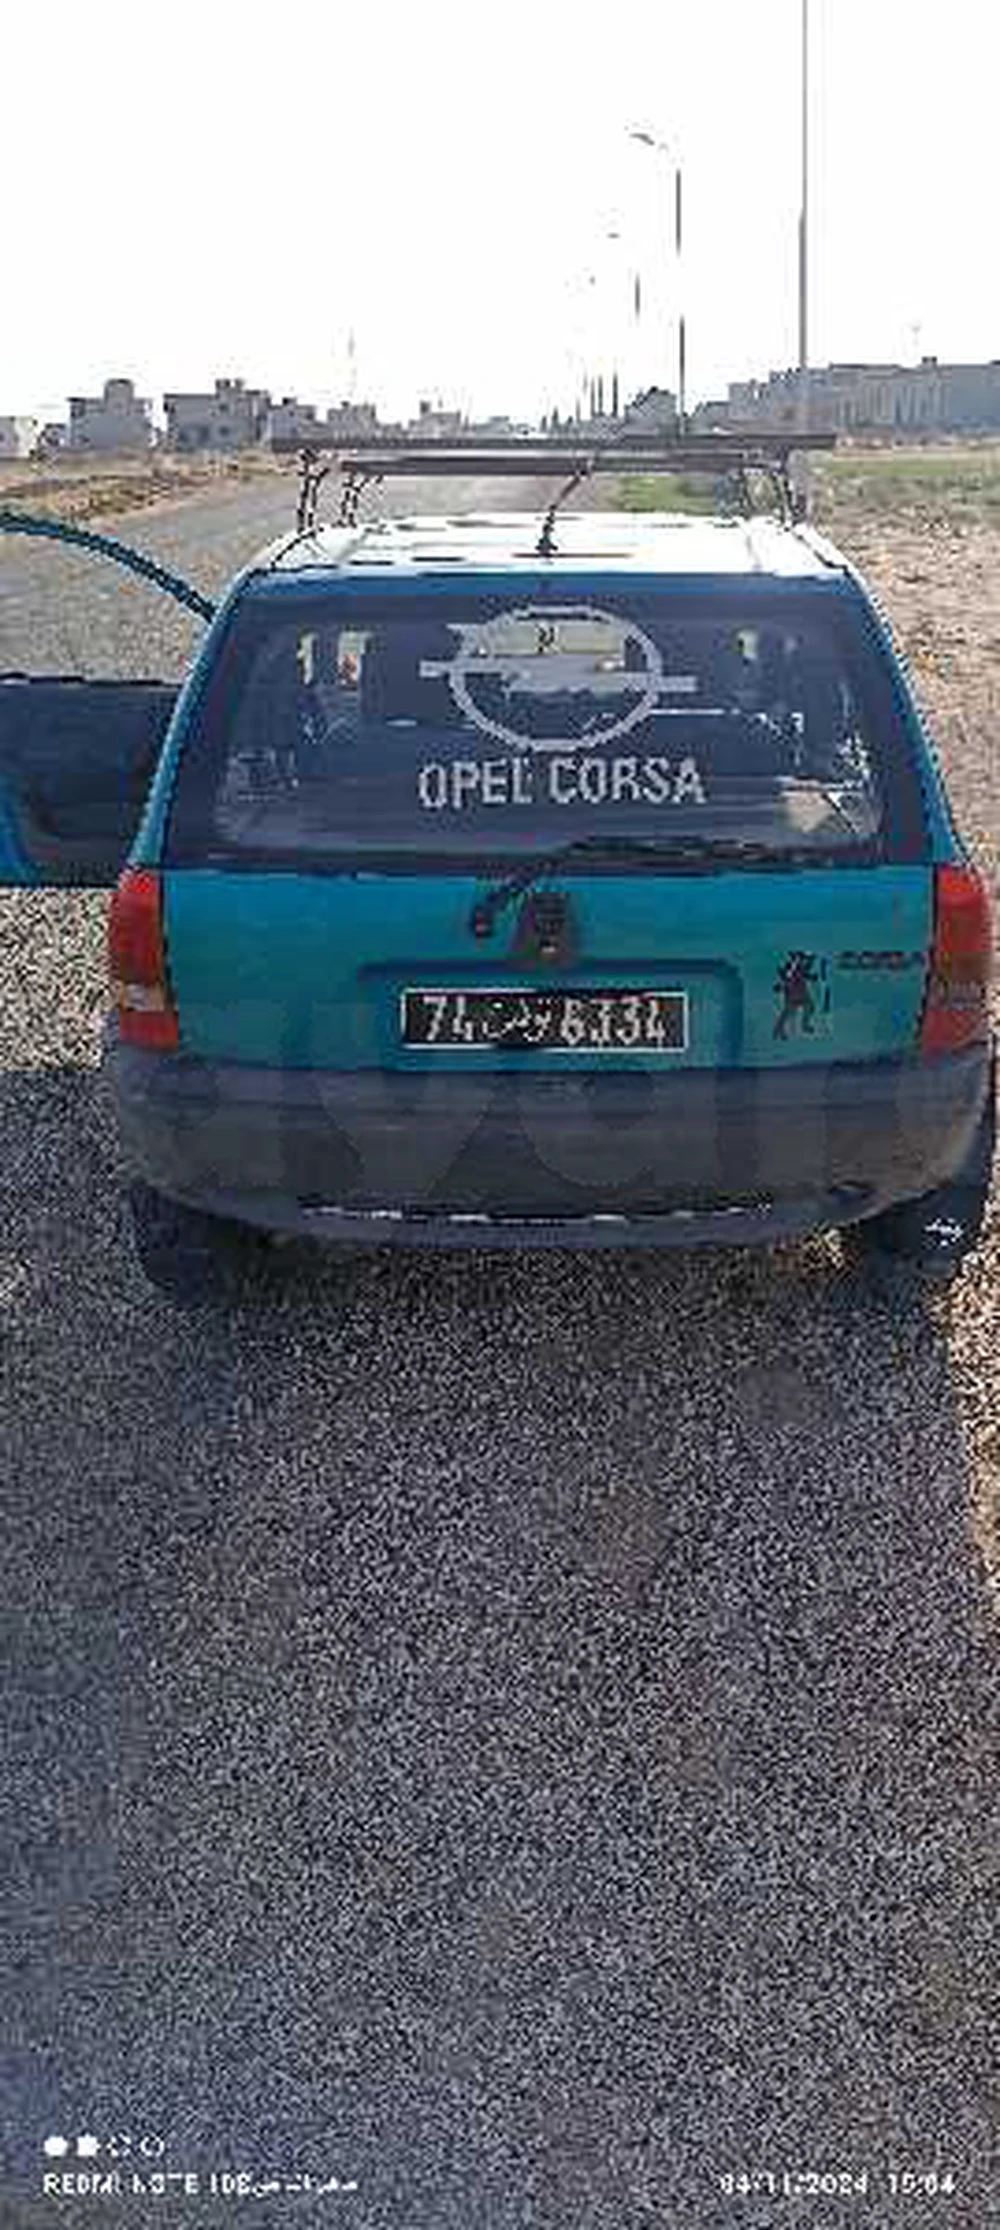opel: (17, 438, 996, 1317)
